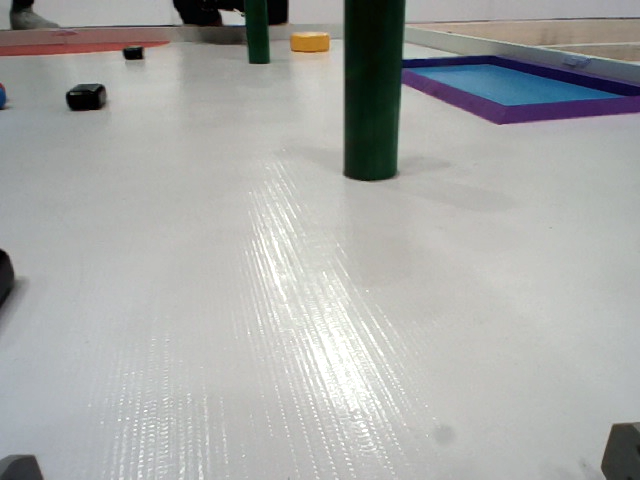black: (64, 85, 107, 109), (121, 42, 149, 57)
kuang: (383, 50, 640, 127)
yellow: (290, 32, 334, 53)
zhuzi: (333, 1, 413, 191)
zhuzi\: (238, 1, 273, 66)
